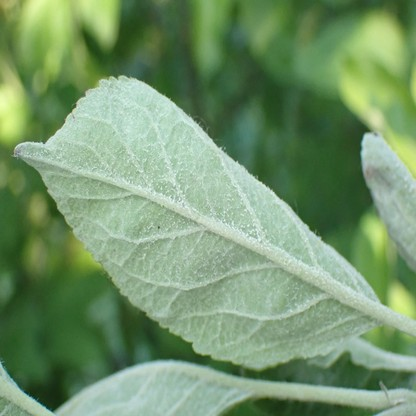powder: (13, 73, 383, 369), (54, 359, 249, 416), (360, 132, 414, 270)
